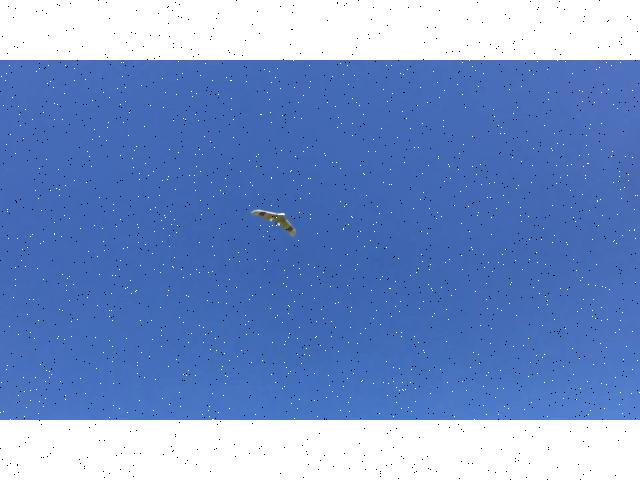Anti-Drone: (243, 203, 299, 247)
